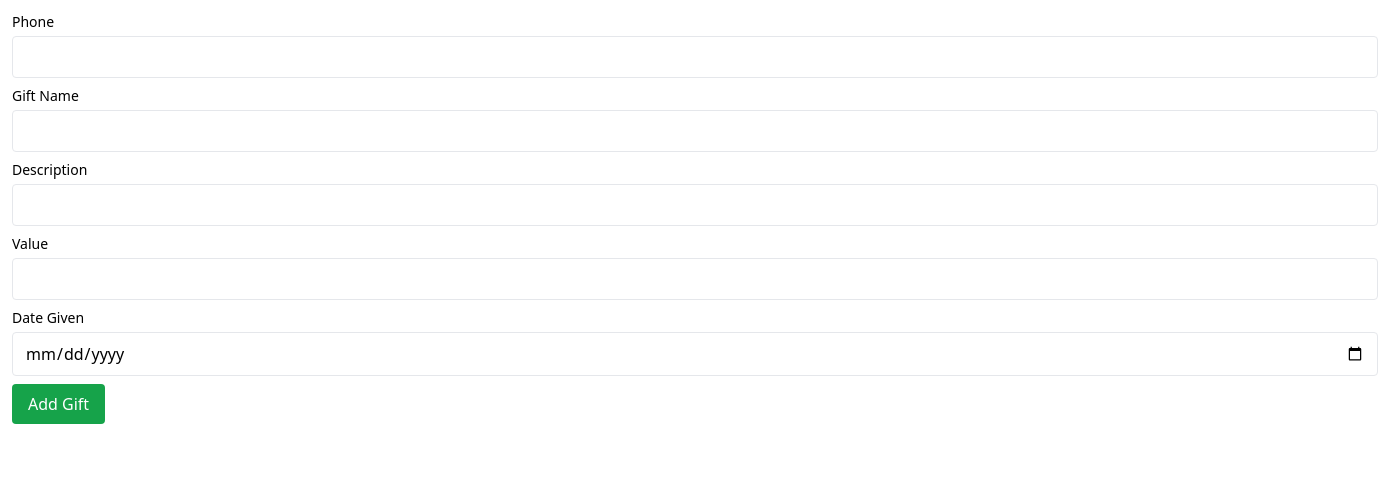
Test case: Gift donor phone suggestions › Escape dismisses suggestions without changing the phone
In the field with id "gift-phone": (695, 57) [12,36,1378,78], type "987"
Wait 300 ms
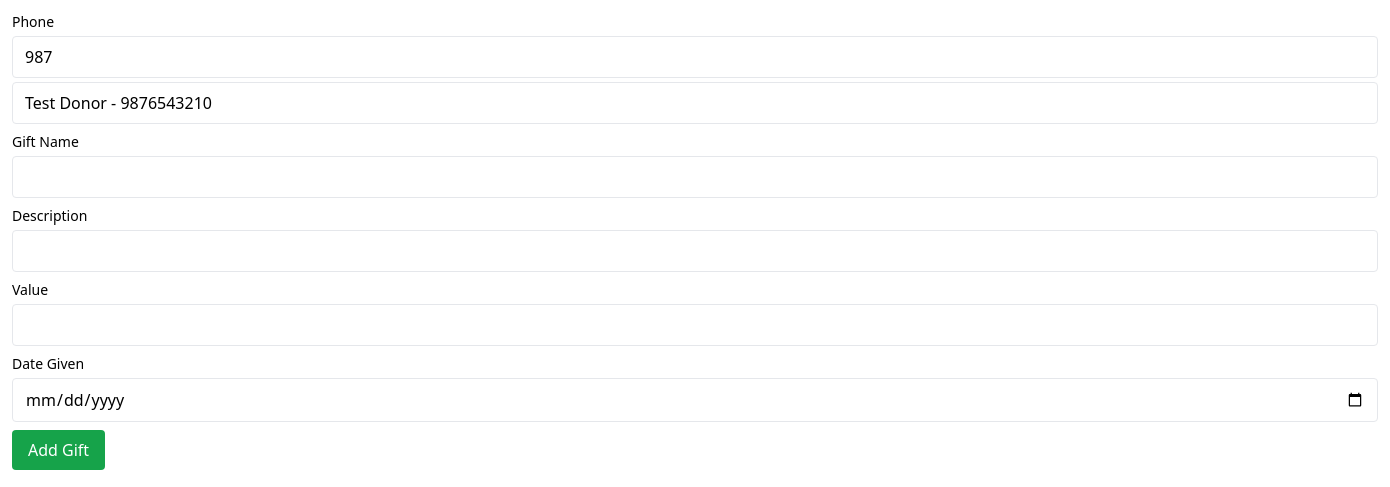
Press Escape in the field with id "gift-phone", box [12,36,1378,78]
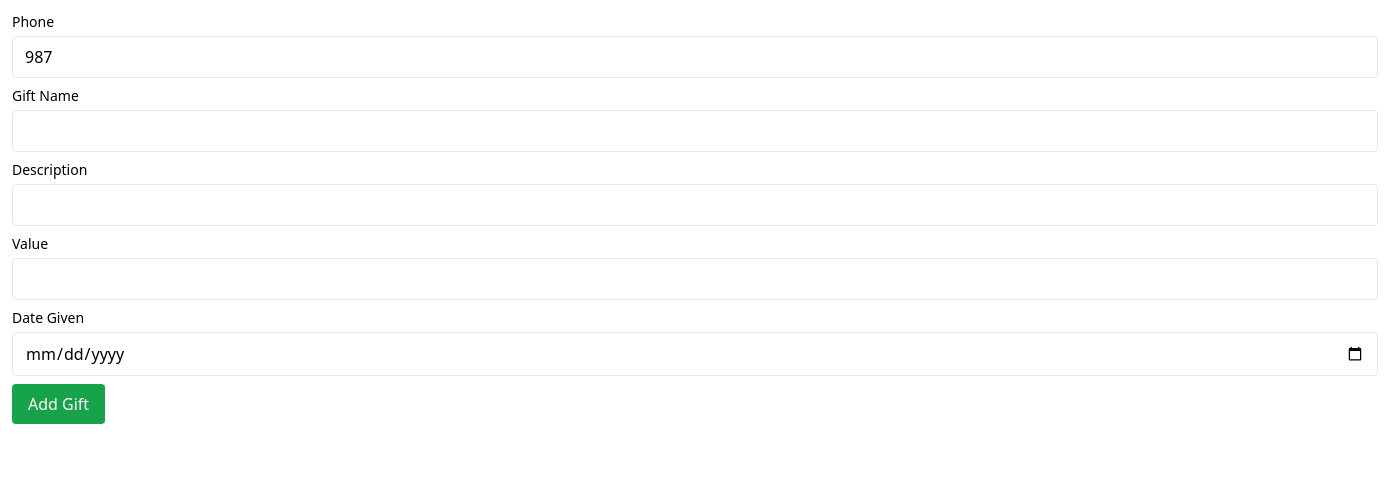
Expected: the list is gone
